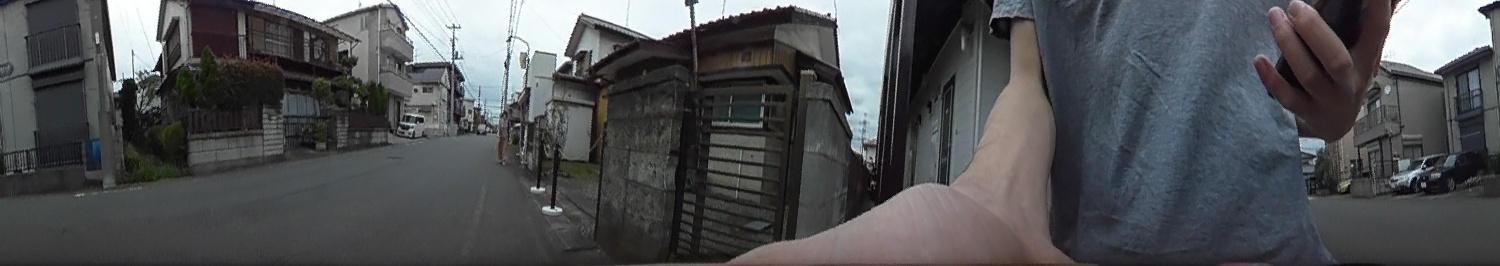person: (496, 108, 510, 167)
